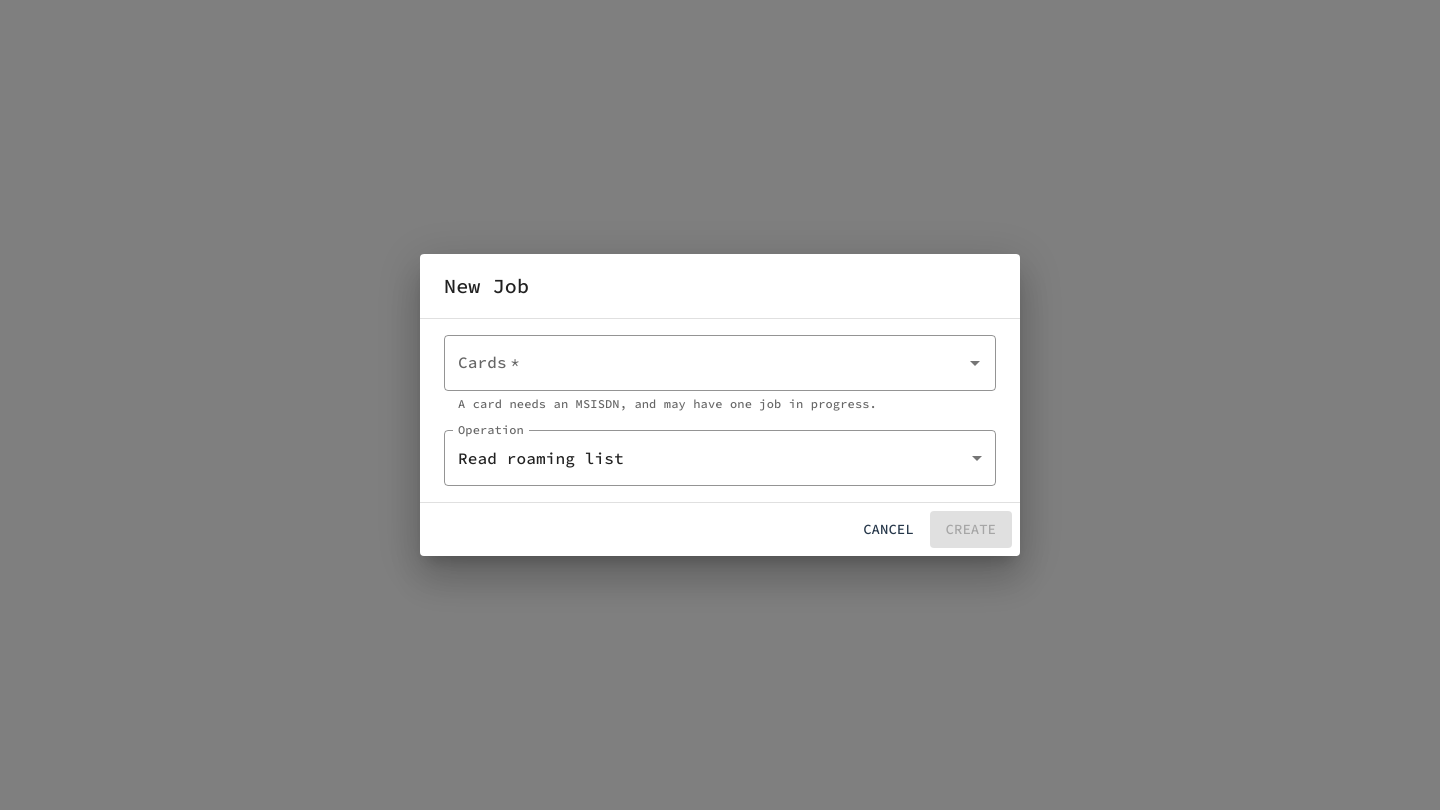
Test: NewJobDialog › offers the first 100 cards, and disables those without an MSISDN
Expected: the text "A card needs an MSISDN, and may have one job in progress." is shown, [458, 396, 877, 411]
Click the button named "Open": (975, 363) [961, 349, 989, 377]
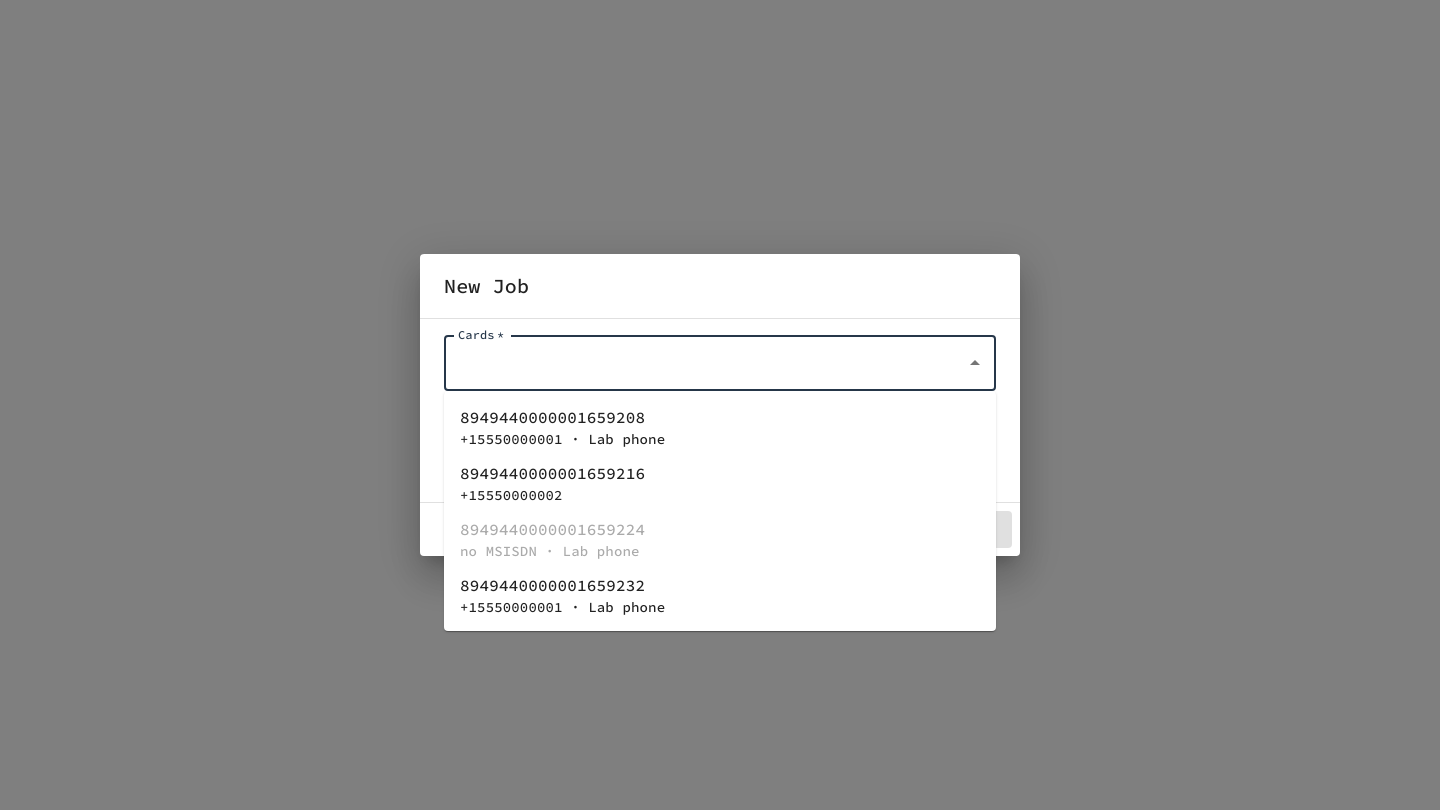
Expected: the option "8949440000001659208 +15550000001 · Lab phone" is shown, [460, 407, 665, 448]
Expected: the option "8949440000001659216 +15550000002" is shown, [460, 463, 645, 504]
Expected: the option "8949440000001659224 no MSISDN · Lab phone" is shown
Click the option "8949440000001659224 no MSISDN · Lab phone": (553, 540) [460, 519, 645, 560]
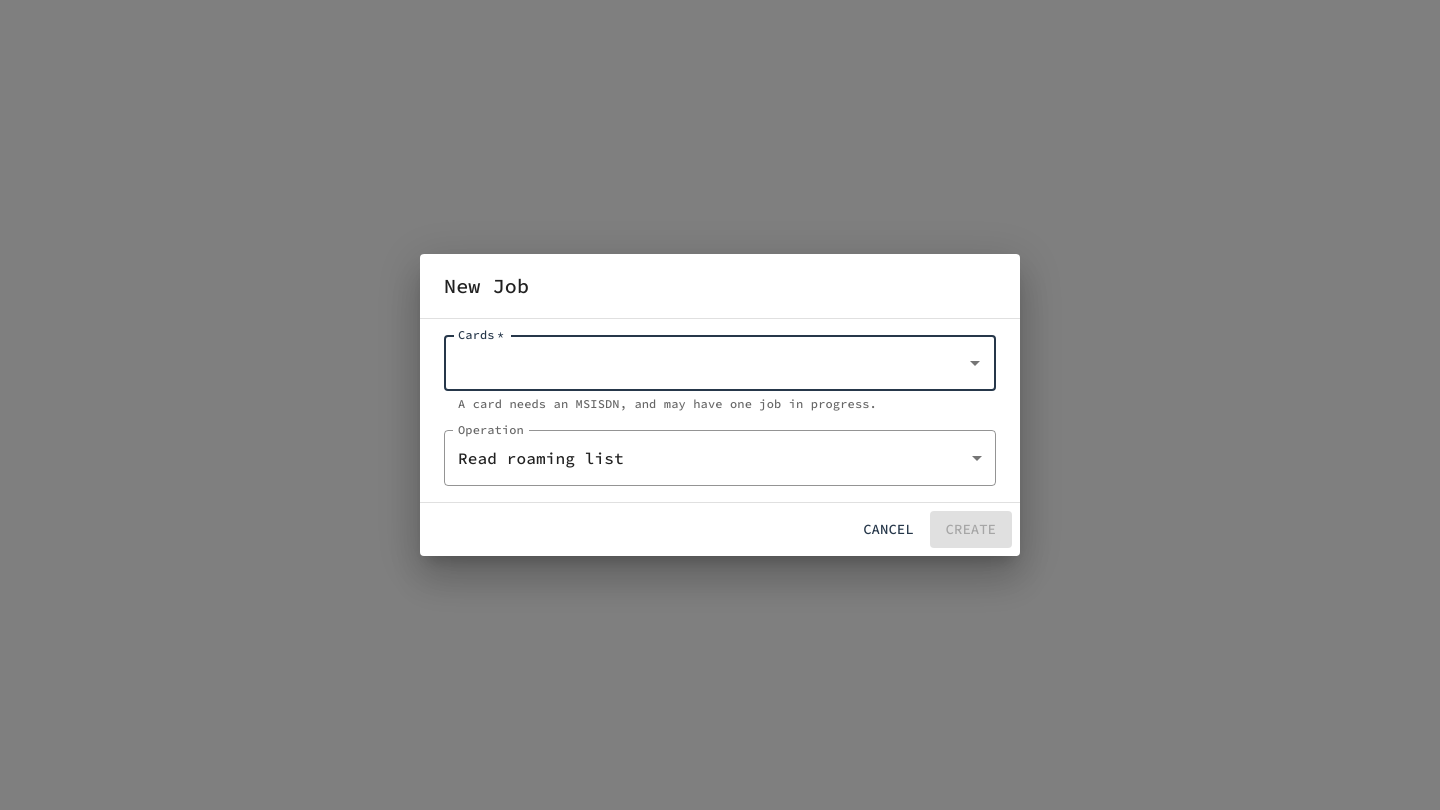
Expected: the button "Create" is disabled, [930, 511, 1012, 548]
Expected: the option "8949440000001659224" is gone
